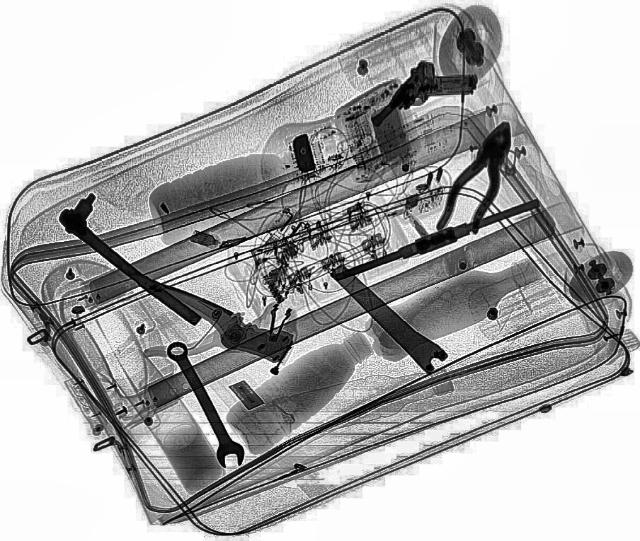Gun: (364, 50, 484, 150)
Pliers: (429, 116, 529, 240)
Wrench: (156, 338, 252, 472)
